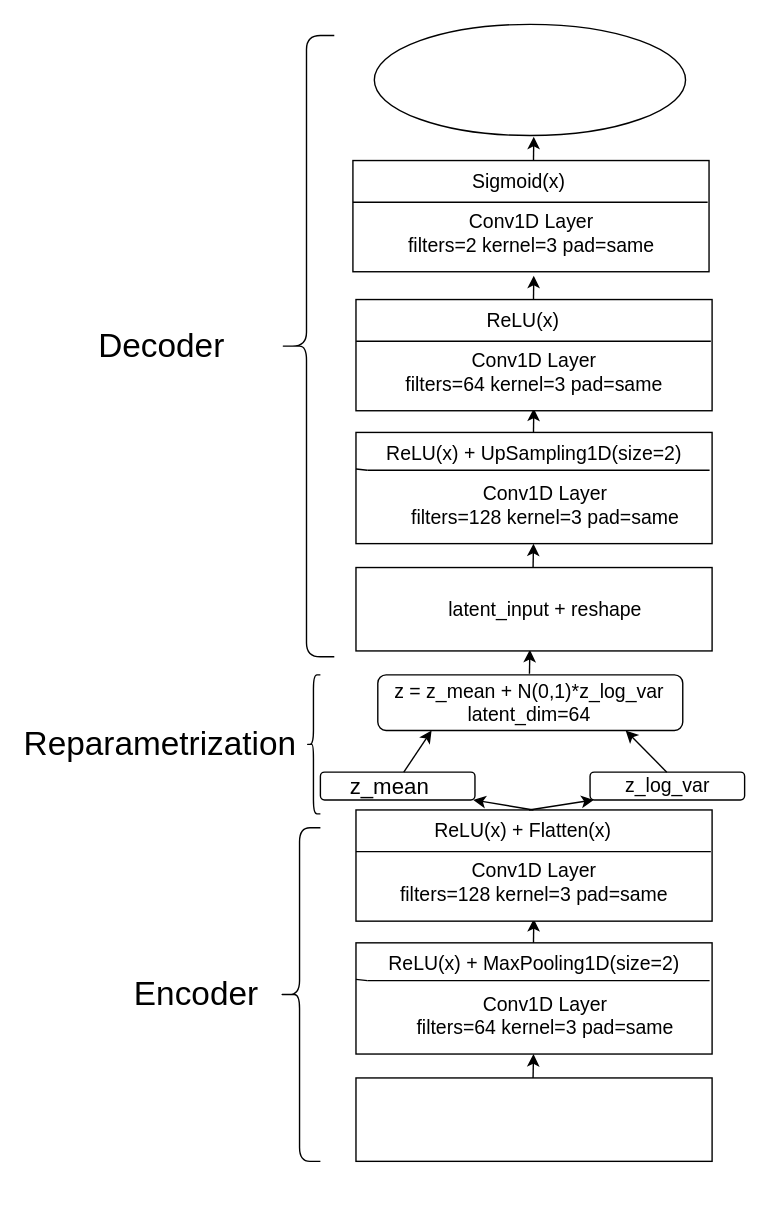
This 769x1209 diagram has some shape labels left out. The shapes that lost their labels are listed below. From the top down, each one's centre as x and y in pixels, then its label:
the point at 529,79: Output 1024 x 2
the point at 533,1119: Input + Normalization 1024 x 2
